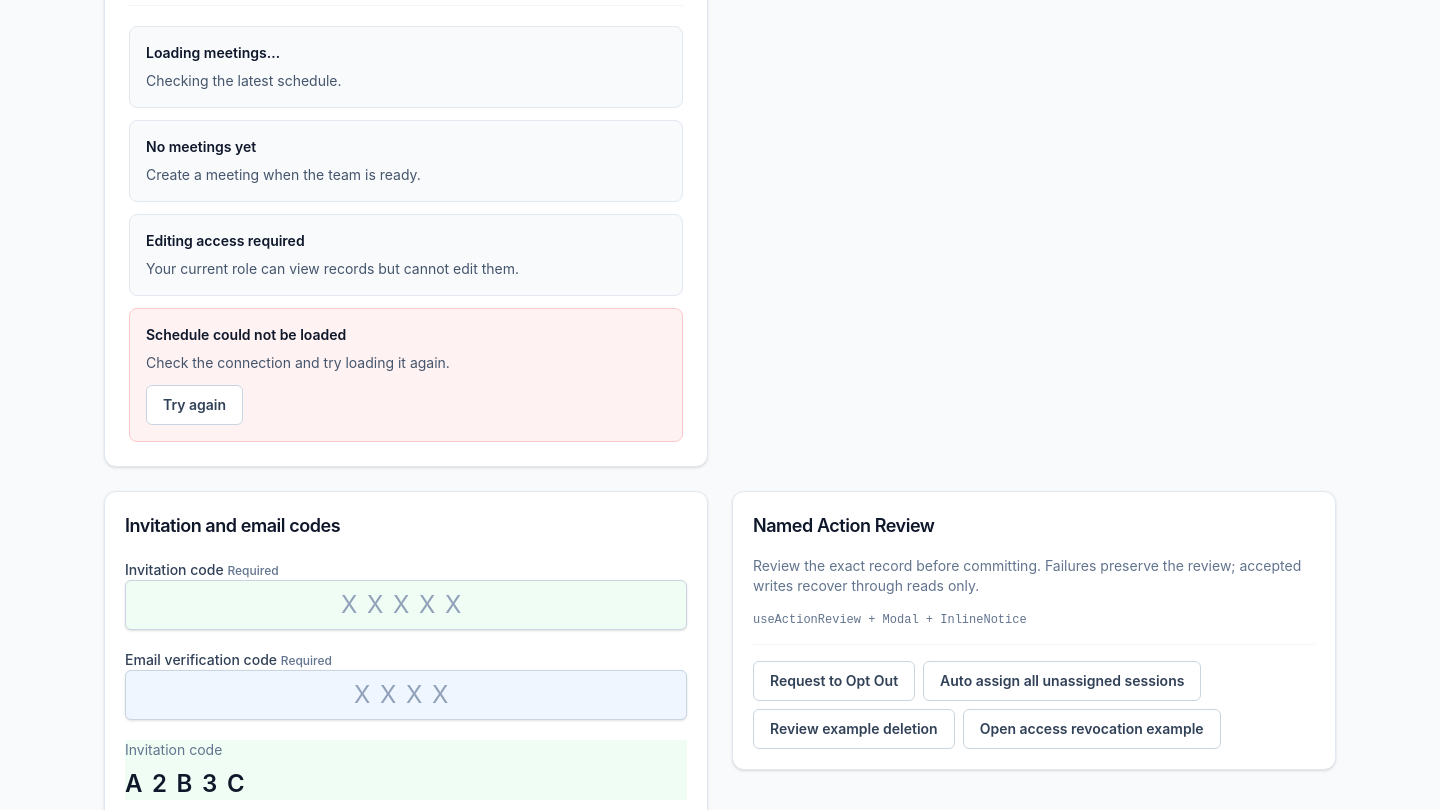
it: replaces a failed schedule with the empty result when retried
This screenshot has width=1440, height=810.
(page scrolled)
Step 1. Click the button "Try again" → (195, 405), box [146,385,243,425]
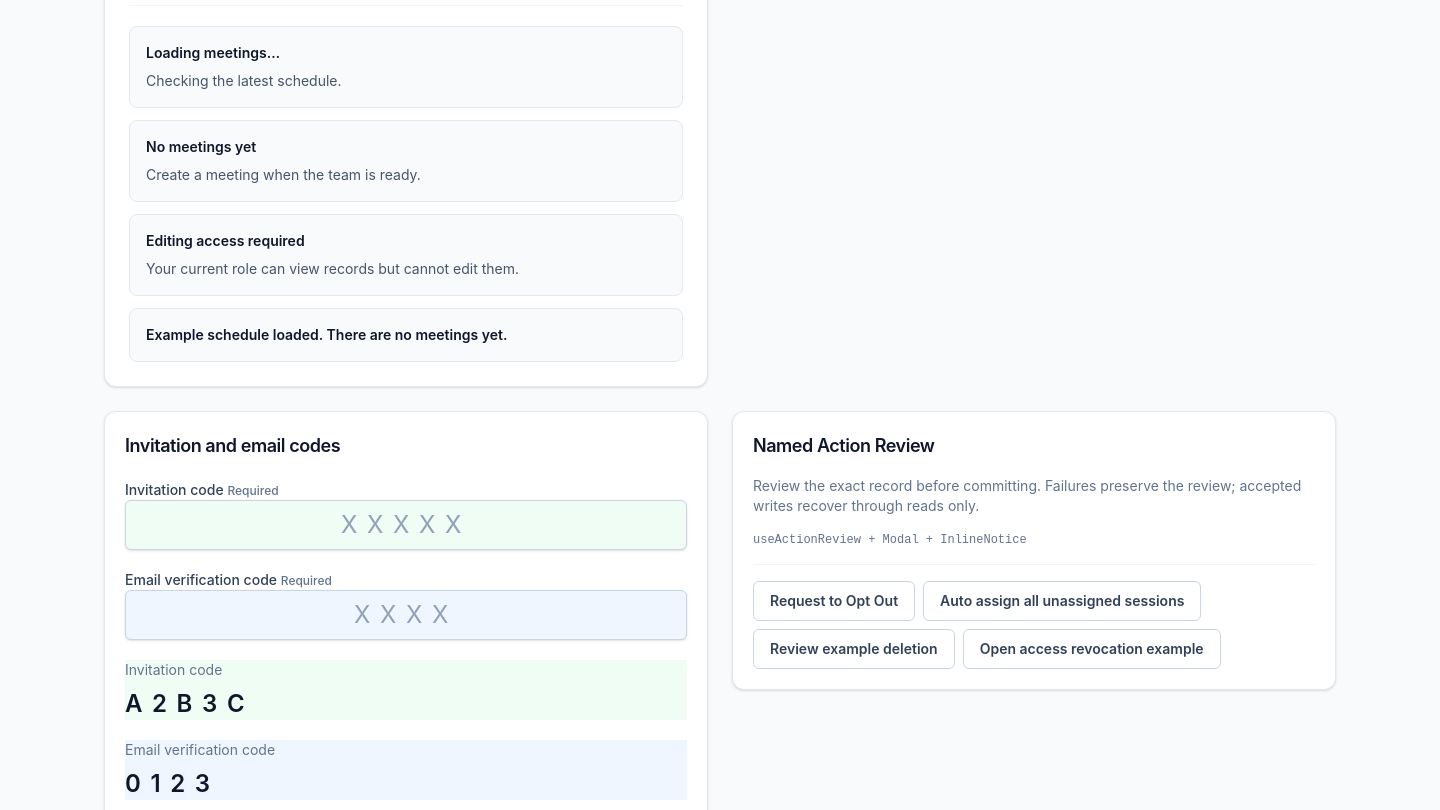
Now the heading "Schedule could not be loaded" is gone
Now the heading "Example schedule loaded. There are no meetings yet." is shown, box [146,326,507,343]
